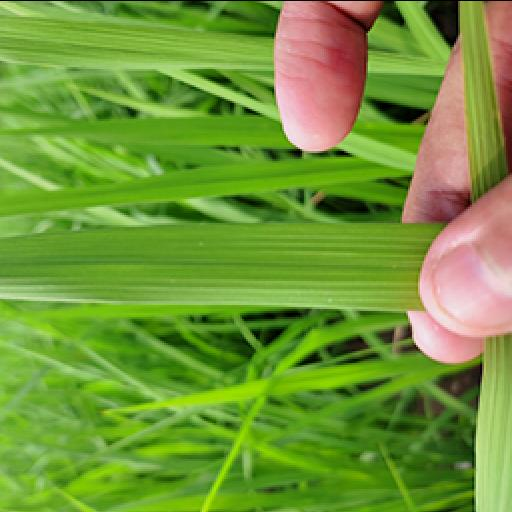Healthy Leaf: (6, 220, 432, 310)
